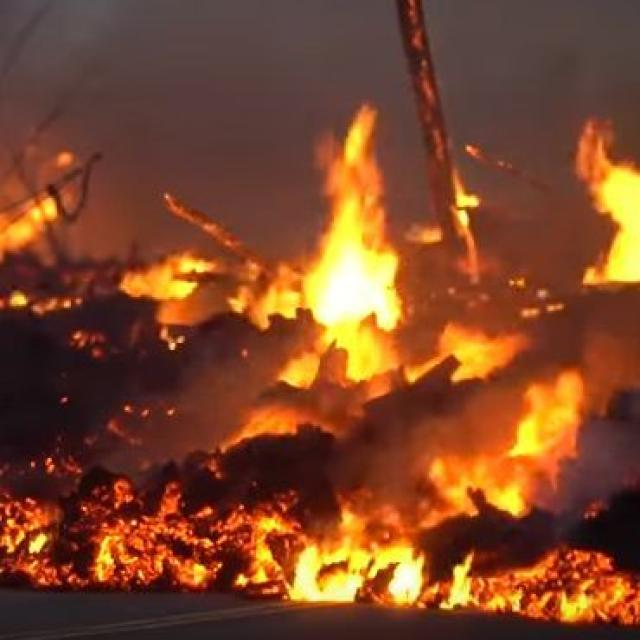Fire: (4, 479, 276, 595), (311, 108, 403, 332), (261, 532, 489, 615), (507, 546, 640, 633), (426, 313, 540, 401), (571, 134, 640, 279), (235, 271, 337, 351), (411, 465, 530, 532), (120, 236, 222, 312), (506, 367, 590, 458), (229, 396, 334, 466), (299, 326, 402, 387), (0, 185, 75, 262)
Smoke: (17, 0, 572, 179)
